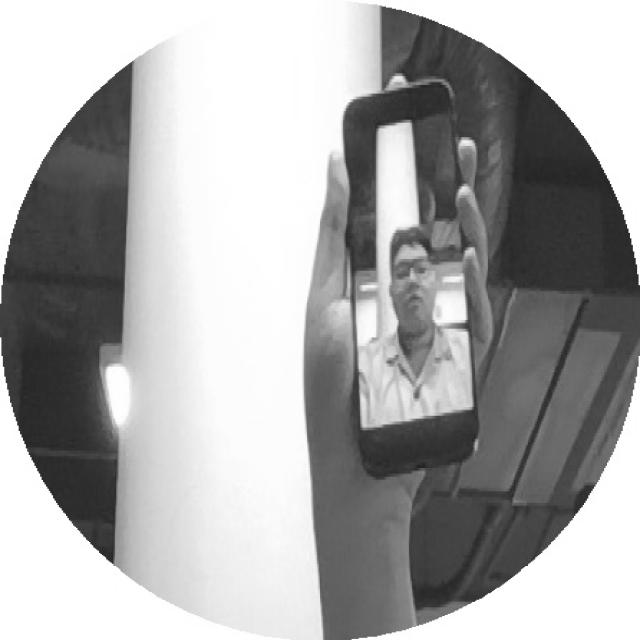fake: (309, 79, 519, 487), (328, 76, 505, 484)
